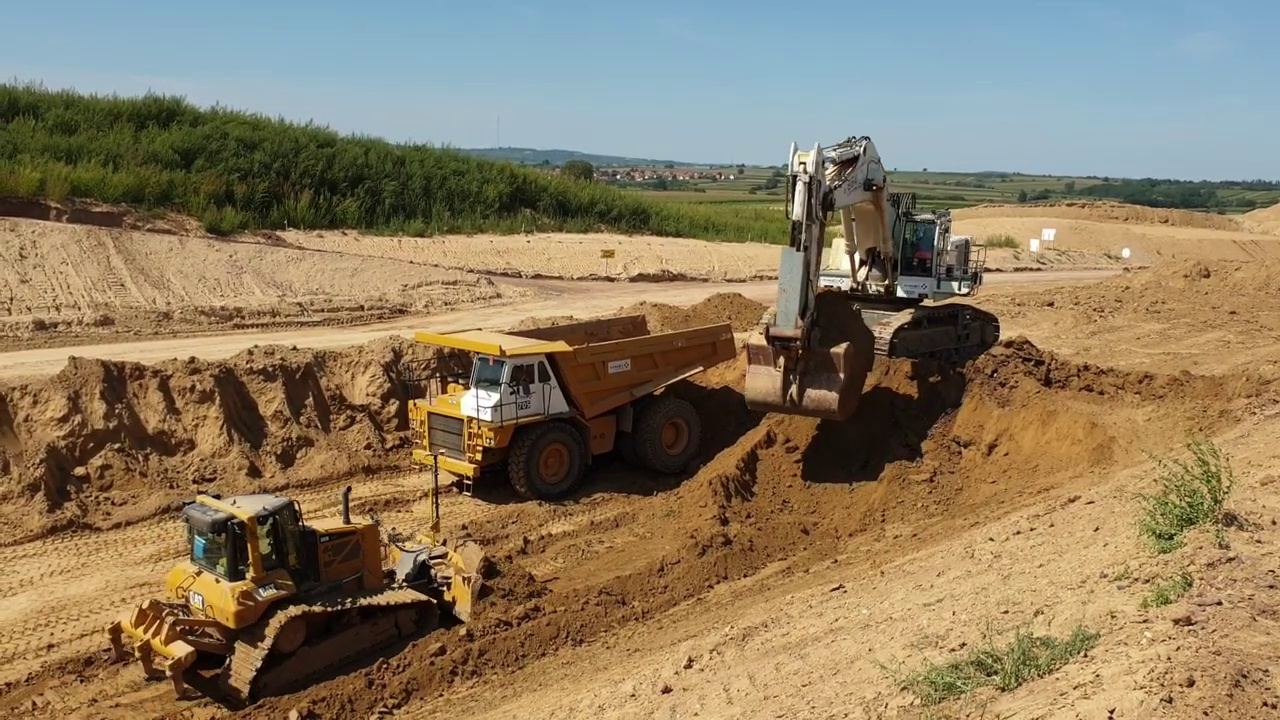bulldozer: (106, 450, 495, 712)
excavator: (739, 130, 1005, 420)
truck: (394, 307, 745, 505)
